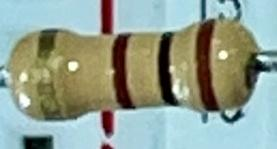Black: (156, 30, 183, 107)
Brown: (193, 18, 224, 113), (111, 33, 138, 109)
Side-Gold: (38, 29, 69, 122)
